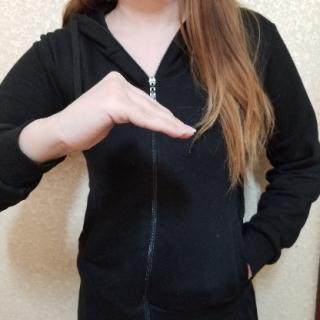HAA: (47, 67, 203, 164)
